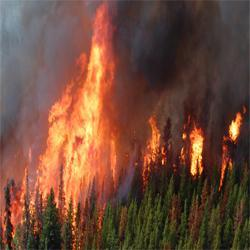fire: (50, 108, 107, 198), (83, 50, 118, 97), (189, 133, 208, 172)
smoke: (145, 17, 249, 86)
